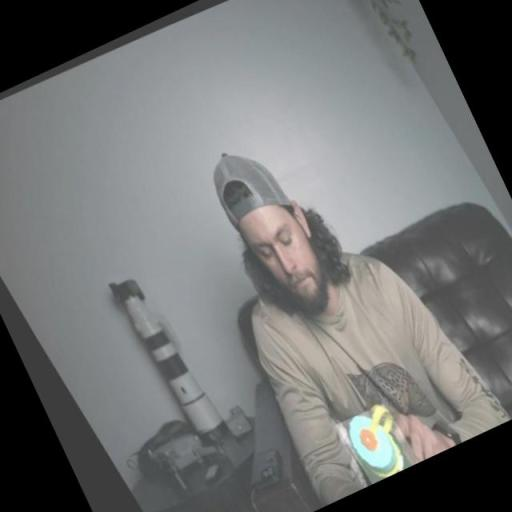bottle: (331, 404, 406, 490)
